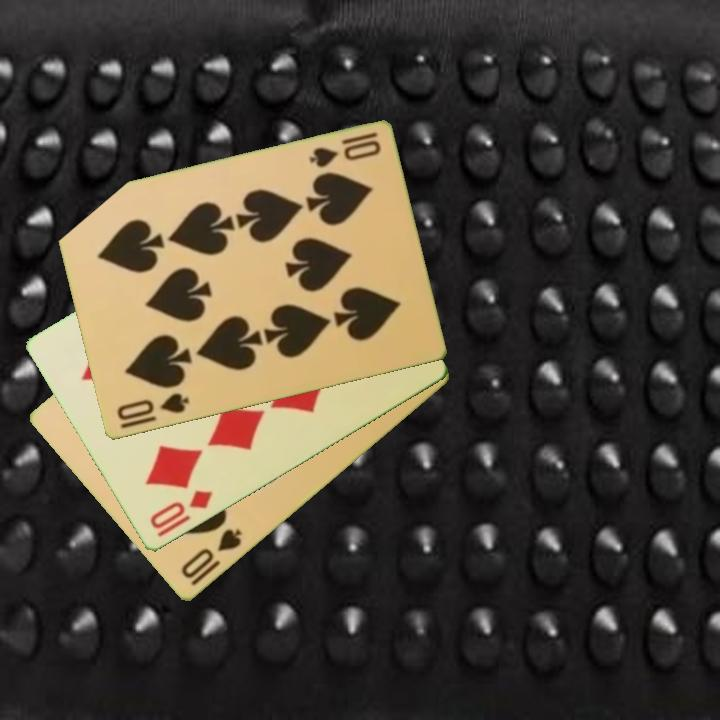10d: (146, 487, 216, 541)
10s: (177, 526, 245, 582), (305, 129, 384, 171), (113, 390, 192, 424)
